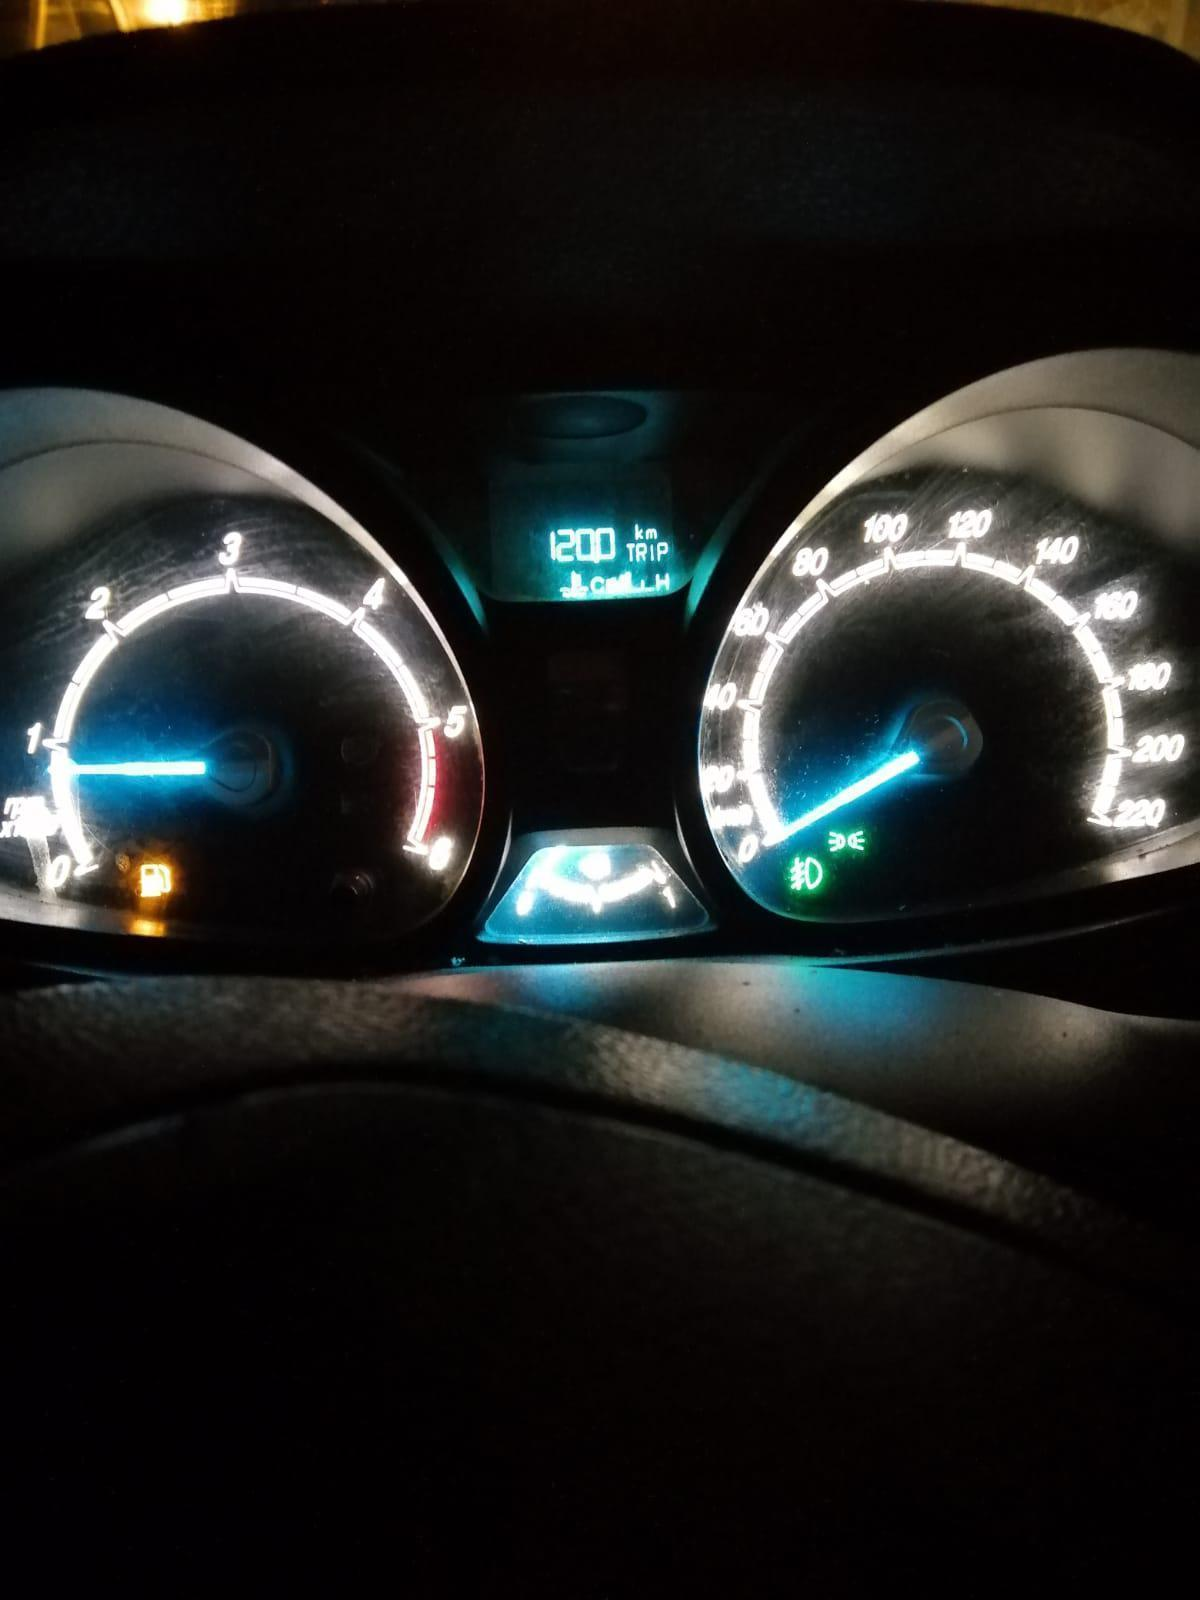,: (592, 556, 601, 566)
0: (574, 527, 596, 562), (596, 525, 618, 559)
1: (547, 528, 557, 564)
2: (557, 527, 574, 563)
X: (654, 572, 671, 593), (655, 540, 669, 563), (590, 574, 605, 593), (637, 540, 647, 563), (634, 522, 644, 540), (625, 540, 634, 562), (648, 540, 655, 562), (645, 527, 657, 539)
odometer: (513, 496, 697, 609)
